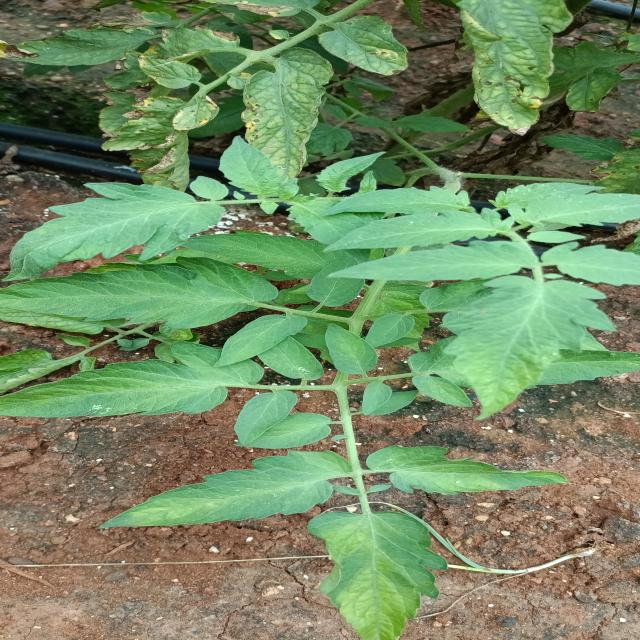Healthy Leaf: (12, 178, 222, 285), (438, 278, 598, 417), (101, 446, 348, 523), (0, 362, 228, 426), (362, 438, 582, 497), (330, 208, 494, 257), (210, 307, 300, 374), (540, 186, 640, 236), (313, 322, 392, 378)
